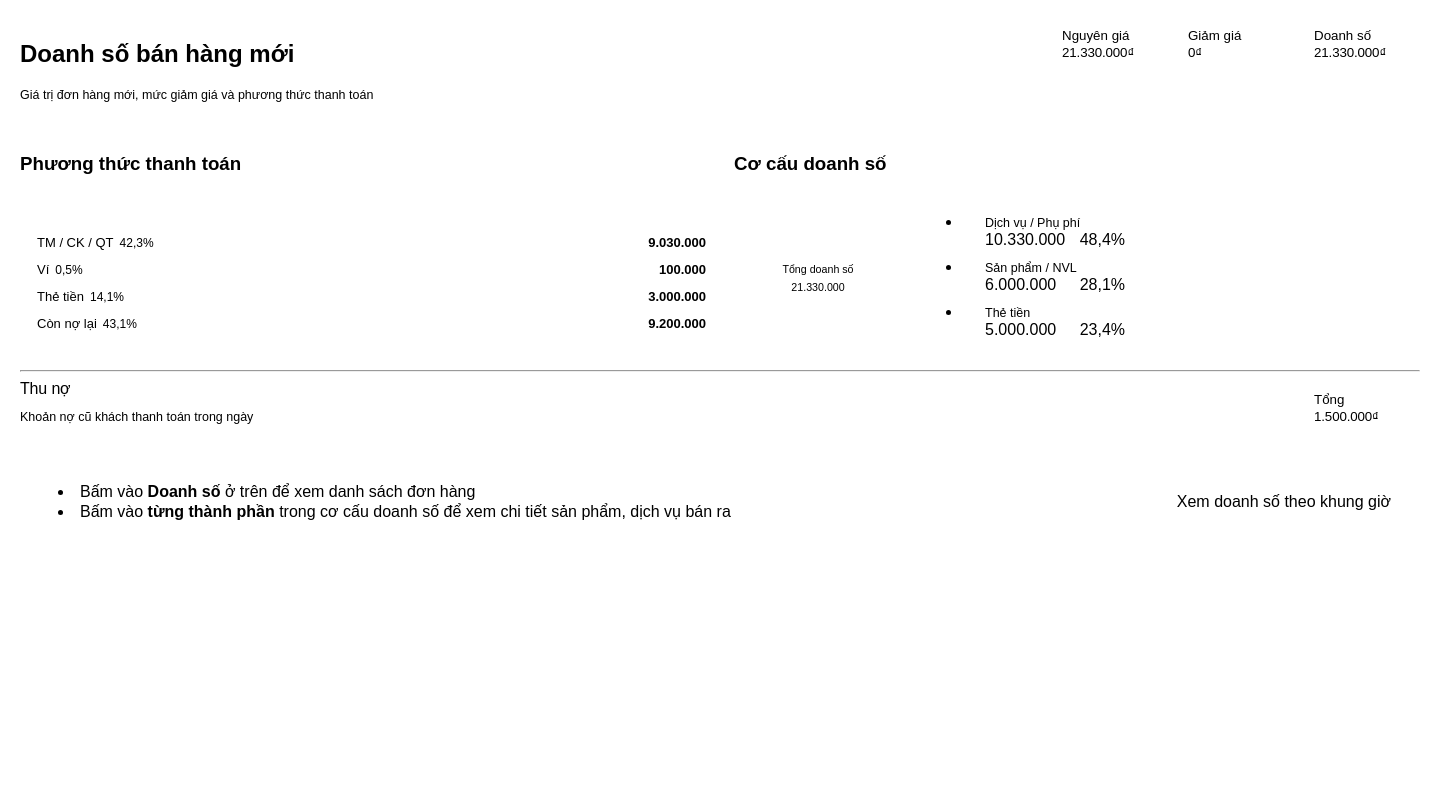
Test case: Tổng quan cơ sở – các phần › bấm một phần của cơ cấu doanh số: gọi danh sách chi tiết và mở popup
The image size is (1440, 810).
Click the button "Sản phẩm / NVL" at (1047, 278), box x1=962 y1=255 x2=1131 y2=300
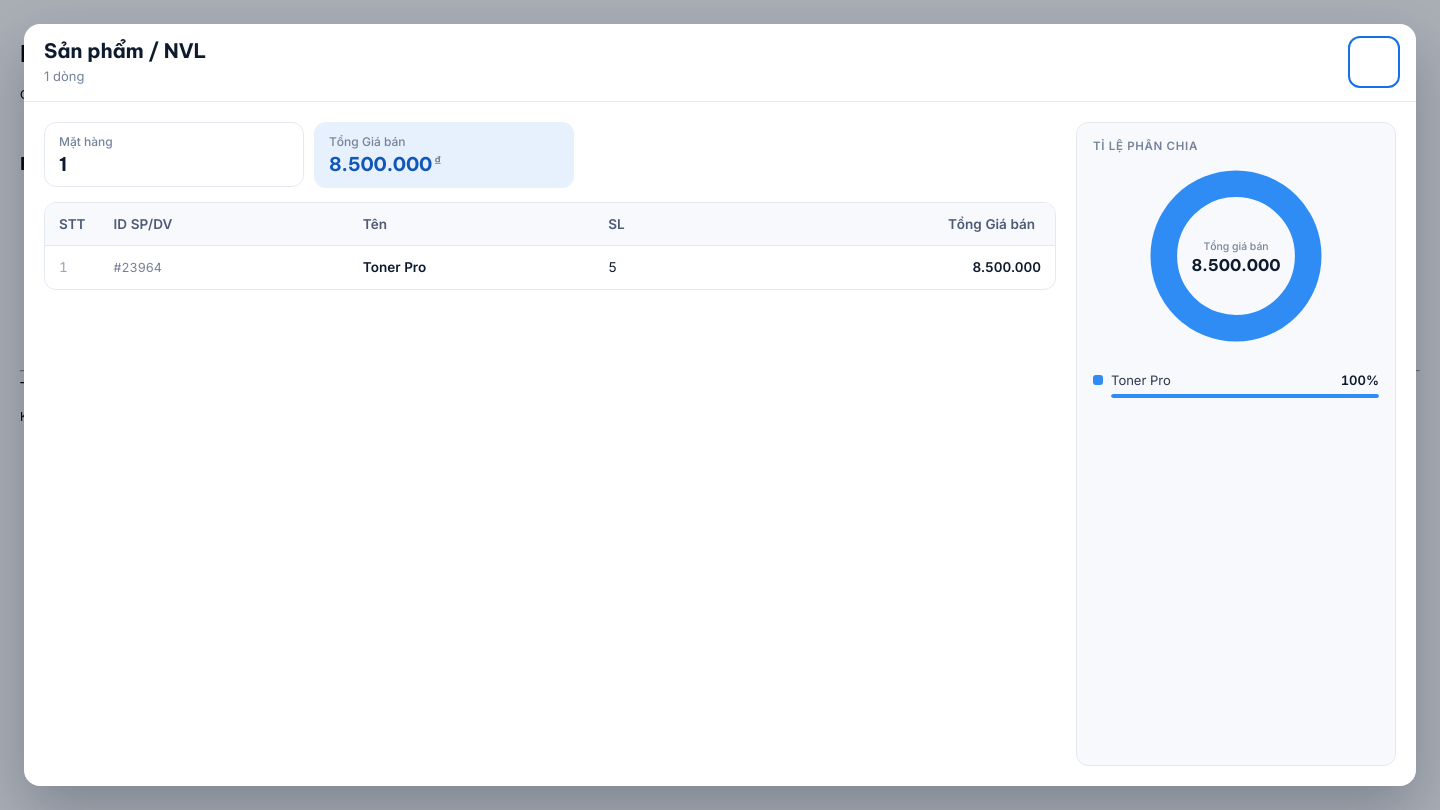
Result: the text "Toner Pro" in the row of "23964" is shown at x1=363 y1=259 x2=426 y2=275
Result: the picture "Tổng giá bán 8.500.000" is shown at x1=1141 y1=160 x2=1331 y2=350
Result: the list with class "so-pop__share" reads "Toner Pro 100%" at x1=1093 y1=362 x2=1379 y2=406
